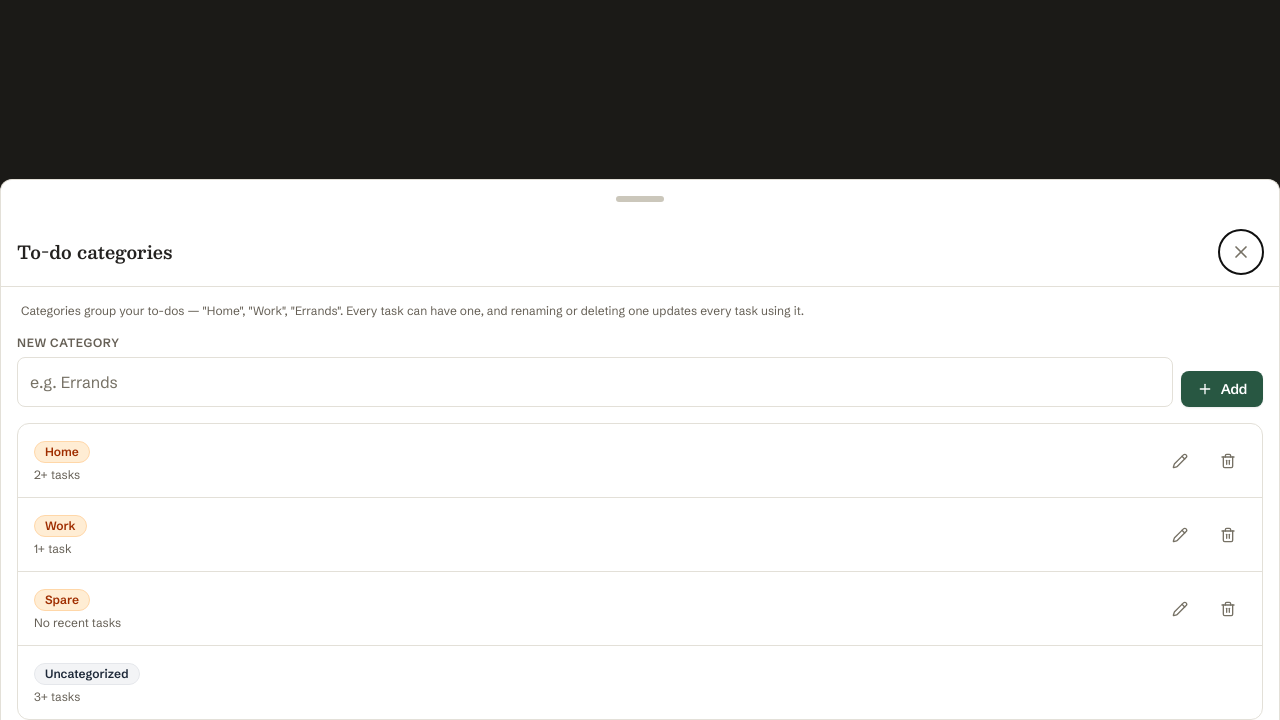
Scenario: TodoCategoryManagerDrawer › never claims a category is unused, since old completed tasks are invisible here
The image size is (1280, 720).
Click the button named "Delete Spare" at point(1228, 608), box [1210,590,1246,626]
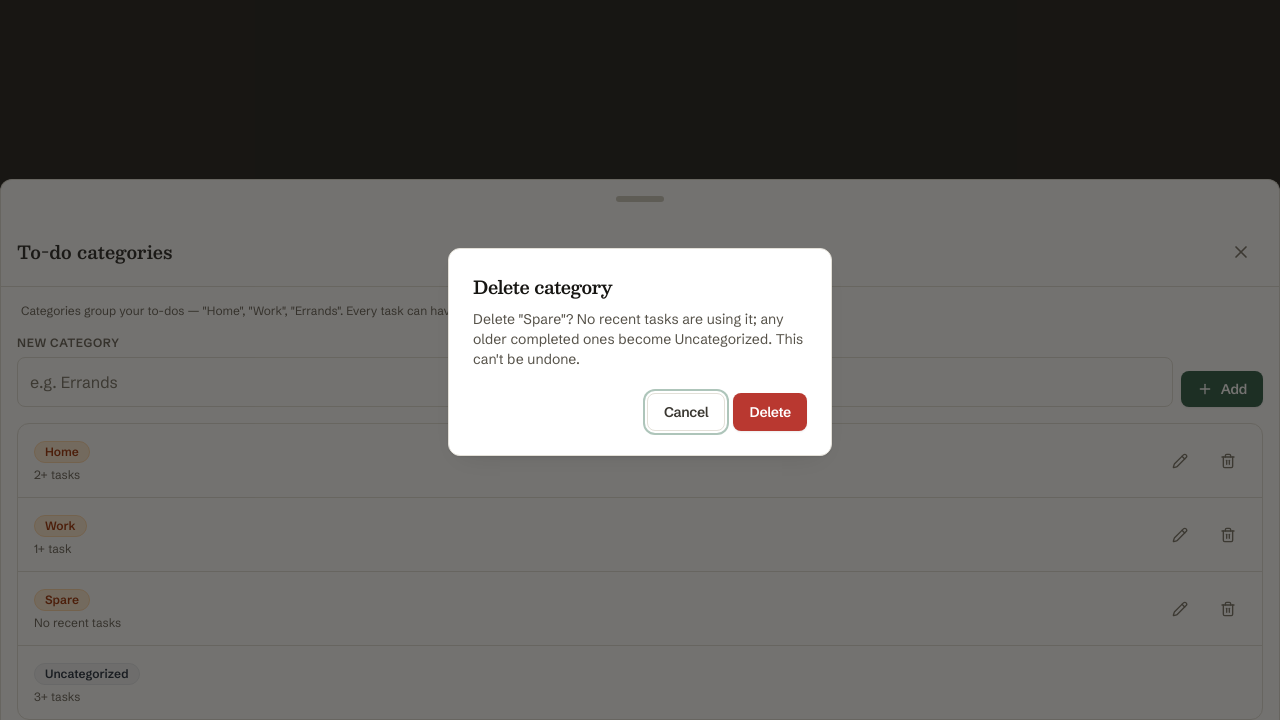
Check: the text "any older completed ones become Uncategorized" is shown, box [473,310,803,368]
